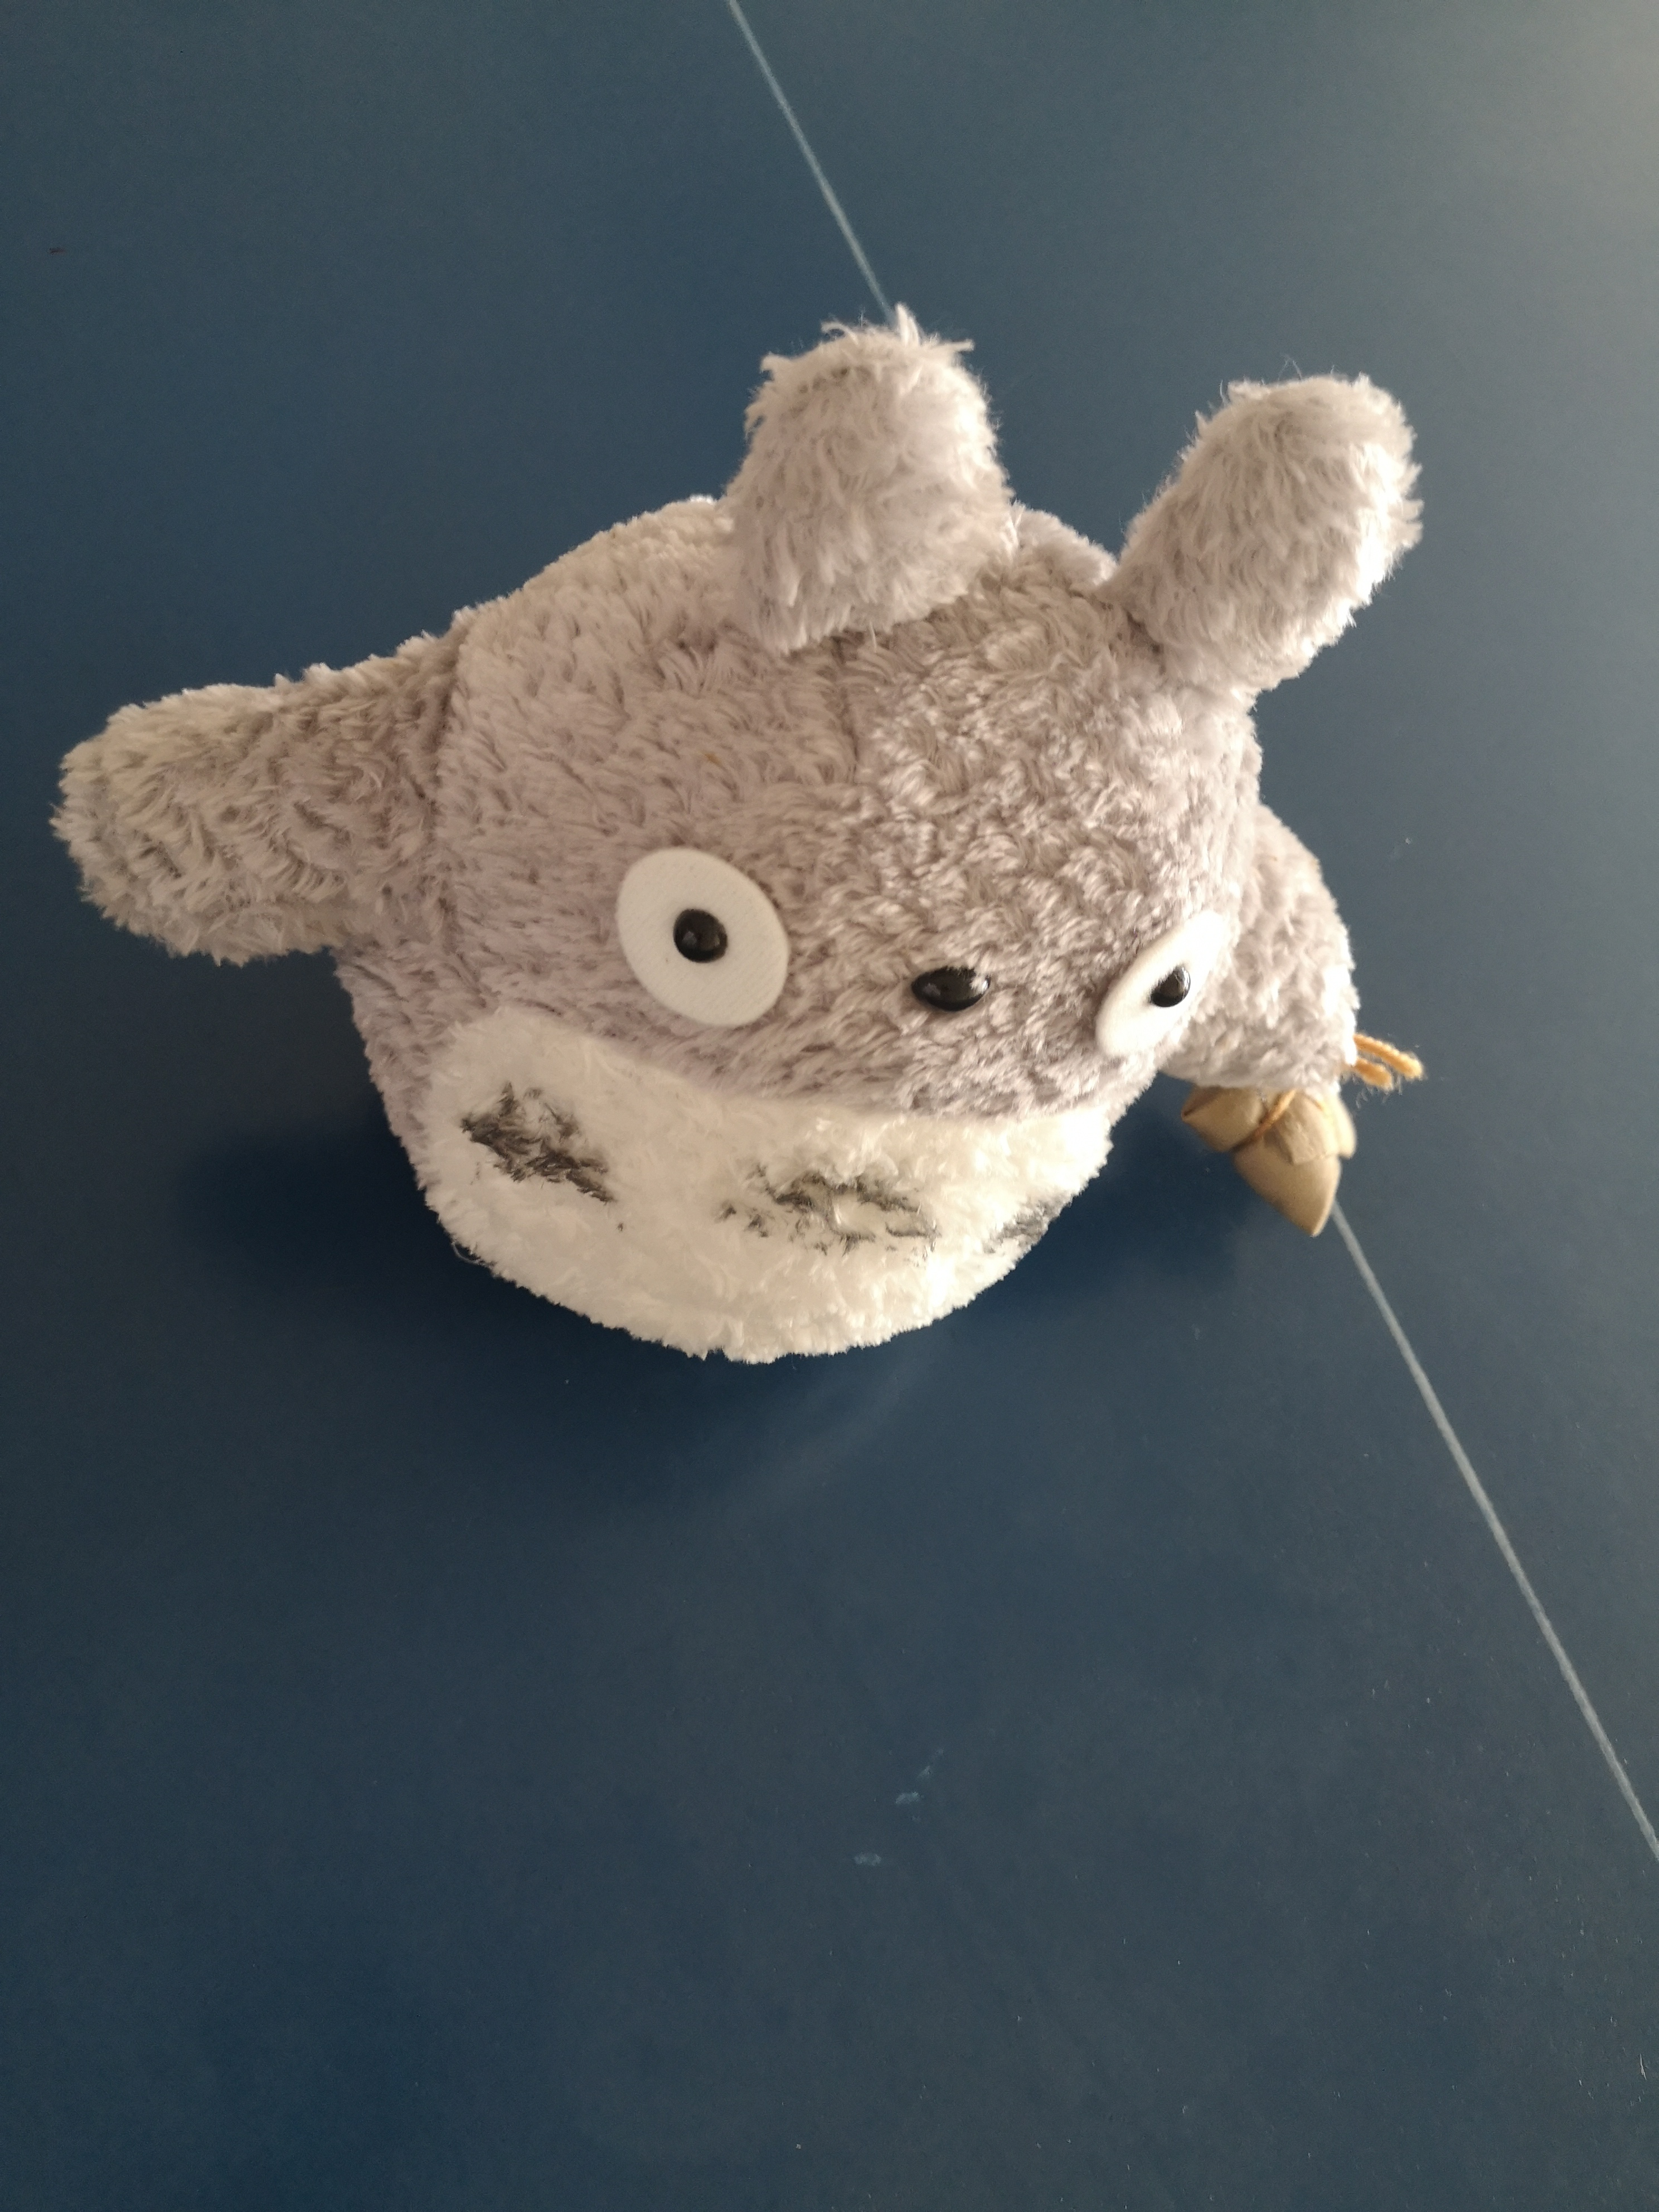totoro: (45, 286, 1431, 1386)
